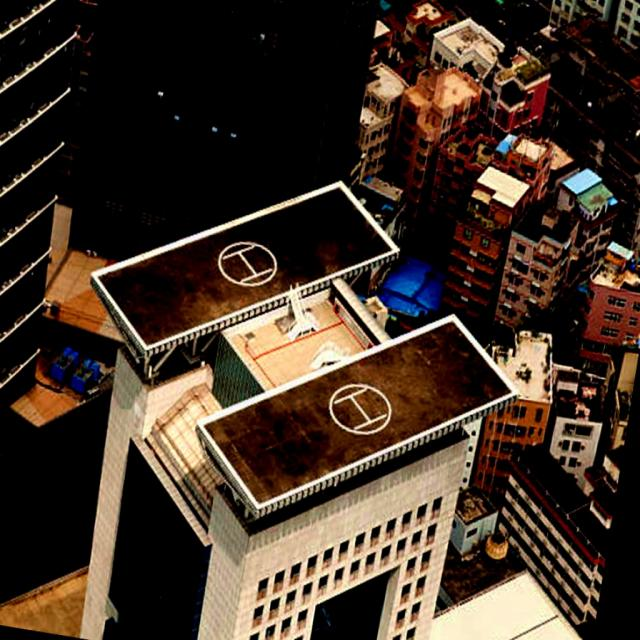helipad: (326, 382, 392, 435), (215, 238, 277, 288)
